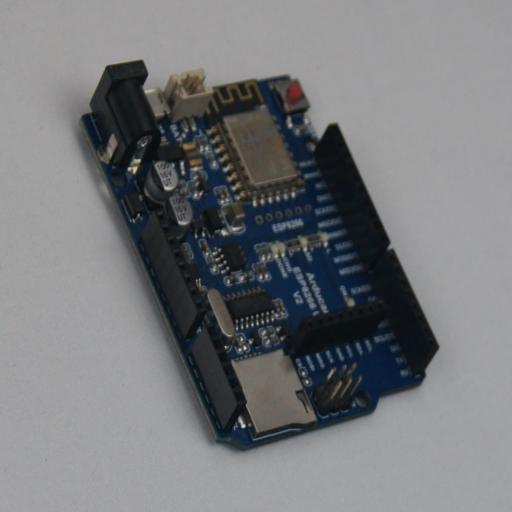Arduino Uno Camera Shield: (77, 60, 439, 452)
